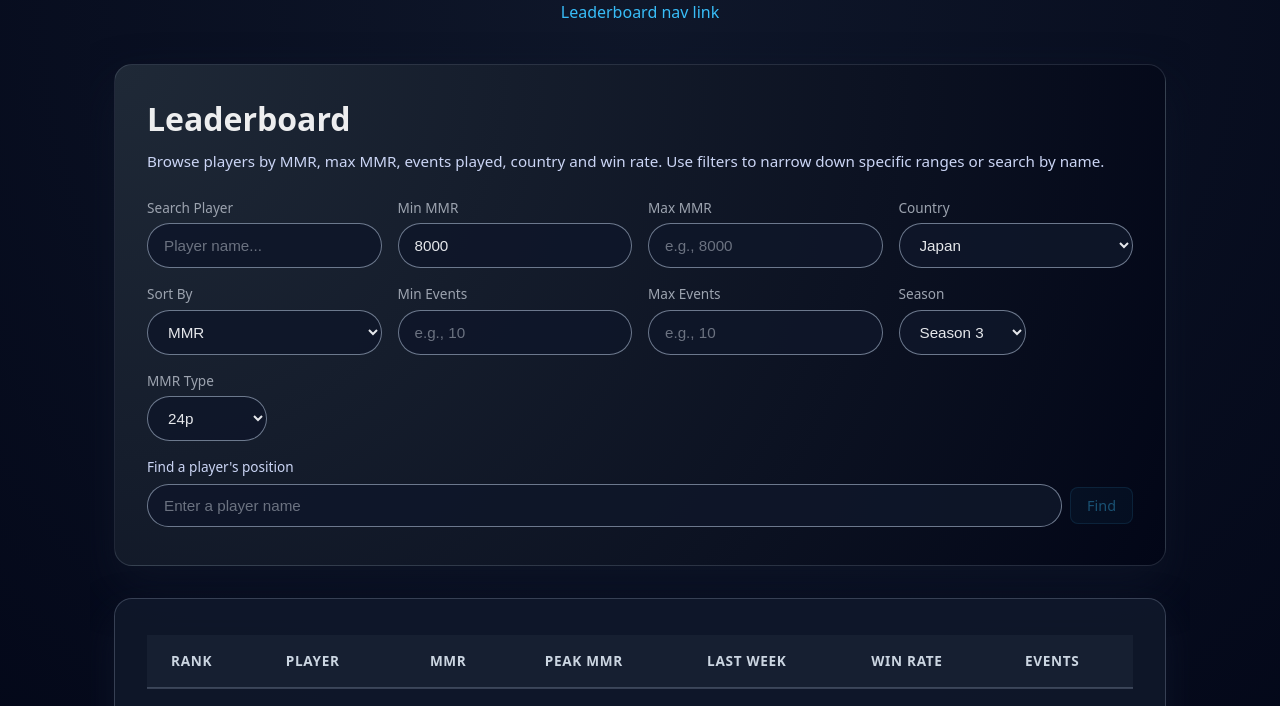
Leaderboard extras › finds a player's page from their overall rank, clearing filters
The image size is (1280, 706).
Type "target" into the dropdown labelled "Find a player's position" at (605, 505), box [147, 484, 1062, 526]
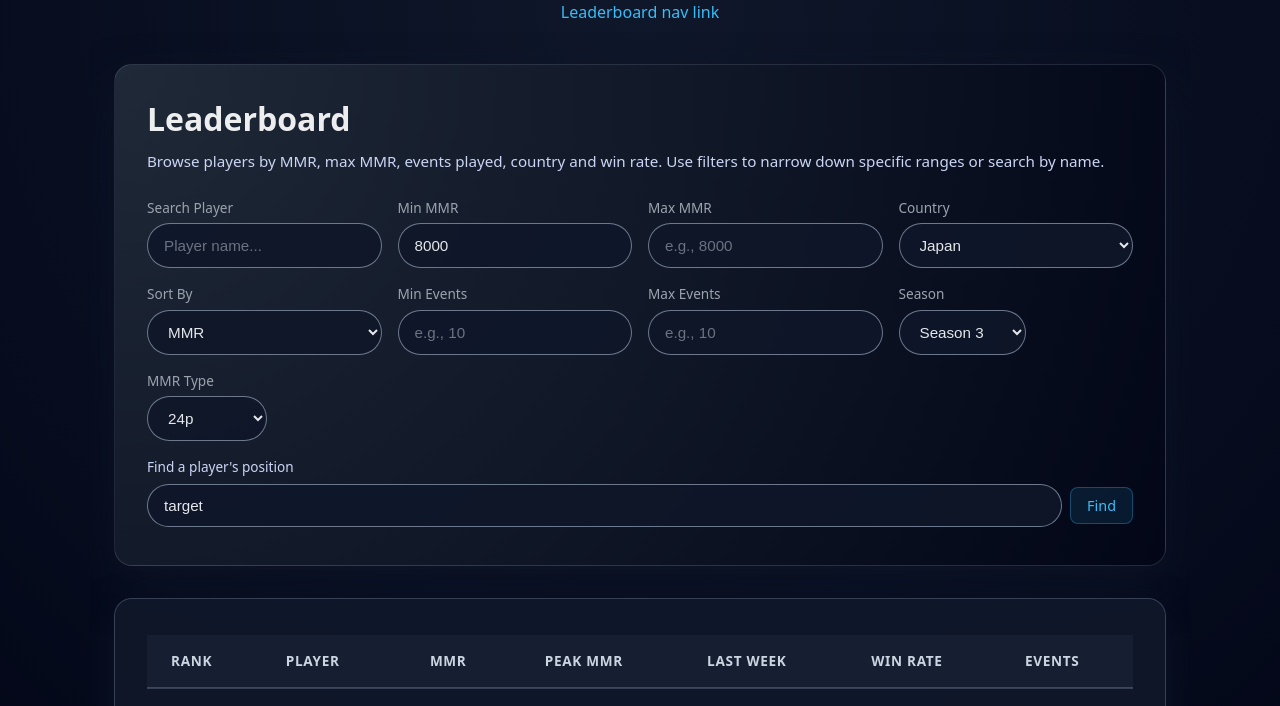
Click the button "Find" at (1102, 505), box [1070, 486, 1133, 524]
(page scrolled)
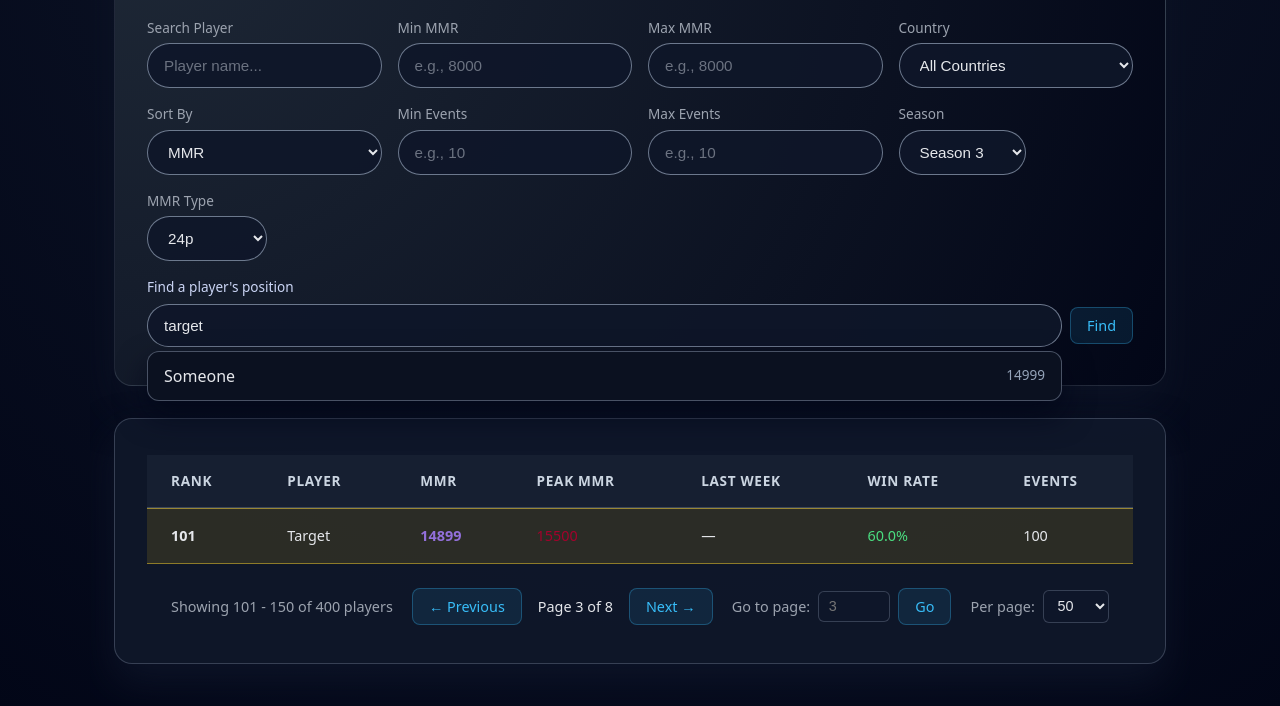
Check: the row "101 Target 14899 15500 — 60.0% 100" is shown, box [147, 509, 1133, 563]
Check: the number field labelled "Min MMR" is empty, box [398, 43, 632, 88]
